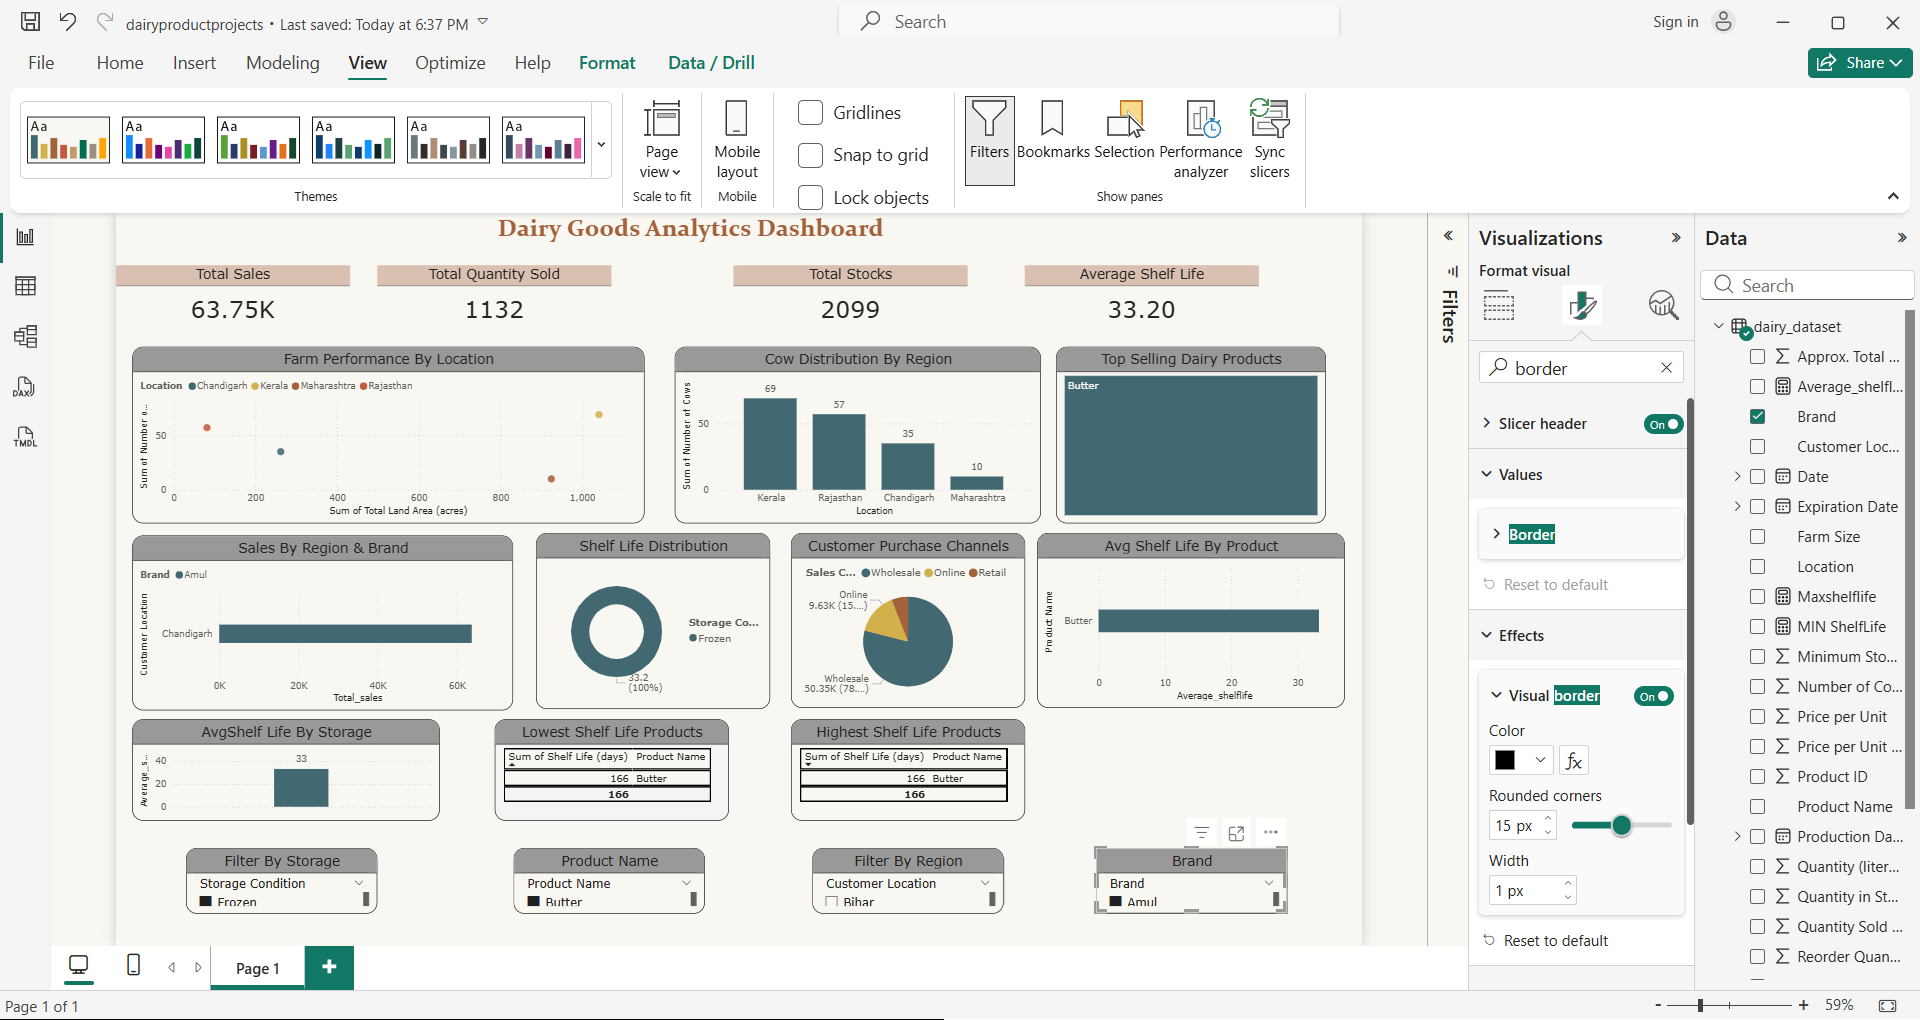

What the dashboard file says about the page in this screenshot:
{"tool":"powerbi","page":{"name":"Page 1","canvas":[1700,1000],"ordinal":0},"visuals":[{"type":"textbox","box":[10,0,280,280],"z":0},{"type":"textbox","title":"Dairy Goods Analytics Dashboard ","box":[148.4,0,1270.3,70.8],"z":1000},{"type":"card","title":"Total  Sales ","fields":{"Values":["dairy_dataset.Total_sales"]},"box":[0,70.8,319.3,89.8],"z":2000},{"type":"card","title":"Total Quantity Sold ","fields":{"Values":["dairy_dataset.total_quantitysold"]},"box":[355.6,70.8,319.3,89.8],"z":3000},{"type":"card","title":"Total Stocks ","fields":{"Values":["dairy_dataset.Total_stock"]},"box":[842.3,70.8,319.3,89.8],"z":4000},{"type":"card","title":"Average Shelf Life ","fields":{"Values":["dairy_dataset.Average_shelflife"]},"box":[1239.3,70.8,319.3,89.8],"z":5000},{"type":"scatterChart","title":"Farm Performance By Location ","fields":{"X":["Sum(dairy_dataset.Total Land Area (acres))"],"Y":["Sum(dairy_dataset.Number of Cows)"],"Series":["dairy_dataset.Location"]},"box":[21.9,182.2,698,240.6],"z":6000},{"type":"clusteredColumnChart","title":"Cow Distribution By Region ","fields":{"Category":["dairy_dataset.Location"],"Y":["Sum(dairy_dataset.Number of Cows)"]},"box":[761.8,182.2,499.4,240.6],"z":7000},{"type":"treemap","title":"Top Selling Dairy Products ","fields":{"Group":["dairy_dataset.Product Name"],"Values":["dairy_dataset.Total_sales"]},"box":[1281.2,182.2,368.1,240.6],"z":8000},{"type":"clusteredBarChart","title":"Sales By Region & Brand ","fields":{"Y":["dairy_dataset.Total_sales"],"Category":["dairy_dataset.Customer Location"],"Series":["dairy_dataset.Brand"]},"box":[21.9,439.2,519.4,238.7],"z":9000},{"type":"clusteredColumnChart","title":"AvgShelf Life By Storage ","fields":{"Category":["dairy_dataset.Storage Condition"],"Y":["dairy_dataset.Average_shelflife"]},"box":[21.9,690.7,419.2,138.5],"z":10000},{"type":"pieChart","title":"Customer Purchase Channels","fields":{"Category":["dairy_dataset.Sales Channel"],"Y":["dairy_dataset.Total_sales"]},"box":[920.4,435.6,318.9,238.7],"z":11000},{"type":"clusteredBarChart","title":"Avg Shelf Life By Product ","fields":{"Category":["dairy_dataset.Product Name"],"Y":["dairy_dataset.Average_shelflife"]},"box":[1255.7,435.6,419.2,238.7],"z":12000},{"type":"tableEx","title":"Highest Shelf Life Products ","fields":{"Values":["Sum(dairy_dataset.Shelf Life (days))","dairy_dataset.Product Name"]},"box":[920.4,690.7,318.9,138.5],"z":13000},{"type":"tableEx","title":"Lowest Shelf Life Products ","fields":{"Values":["Sum(dairy_dataset.Shelf Life (days))","dairy_dataset.Product Name"]},"box":[515.8,690.7,318.9,138.5],"z":14000},{"type":"donutChart","title":"Shelf Life Distribution ","fields":{"Category":["dairy_dataset.Storage Condition"],"Y":["dairy_dataset.Average_shelflife"]},"box":[573,436.7,319.3,239.9],"z":15000},{"type":"slicer","title":"Brand","fields":{"Values":["dairy_dataset.Brand"]},"box":[1335.9,865.7,260.6,89.3],"z":16000},{"type":"slicer","title":"Product Name ","fields":{"Values":["dairy_dataset.Product Name"]},"box":[541.3,865.7,260.6,89.3],"z":17000},{"type":"slicer","title":"Filter By Region","fields":{"Values":["dairy_dataset.Customer Location"]},"box":[949.5,865.7,260.6,89.3],"z":18000},{"type":"slicer","title":"Filter By Storage ","fields":{"Values":["dairy_dataset.Storage Condition"]},"box":[94.8,865.7,260.6,89.3],"z":19000}]}

Visuals, with their boxes on the page's 1700x1000 design canvas (x1, y1, x2, y2). These are canvas units, not pixel positions in the 1920x1020 screenshot, which may show the page scaled, cropped or inside an application window:
textbox: 10,0,290,280
"Dairy Goods Analytics Dashboard " textbox: 148,0,1419,71
"Total  Sales " card: 0,71,319,161
"Total Quantity Sold " card: 356,71,675,161
"Total Stocks " card: 842,71,1162,161
"Average Shelf Life " card: 1239,71,1559,161
"Farm Performance By Location " scatterChart: 22,182,720,423
"Cow Distribution By Region " clusteredColumnChart: 762,182,1261,423
"Top Selling Dairy Products " treemap: 1281,182,1649,423
"Sales By Region & Brand " clusteredBarChart: 22,439,541,678
"AvgShelf Life By Storage " clusteredColumnChart: 22,691,441,829
"Customer Purchase Channels" pieChart: 920,436,1239,674
"Avg Shelf Life By Product " clusteredBarChart: 1256,436,1675,674
"Highest Shelf Life Products " tableEx: 920,691,1239,829
"Lowest Shelf Life Products " tableEx: 516,691,835,829
"Shelf Life Distribution " donutChart: 573,437,892,677
"Brand" slicer: 1336,866,1596,955
"Product Name " slicer: 541,866,802,955
"Filter By Region" slicer: 950,866,1210,955
"Filter By Storage " slicer: 95,866,355,955
